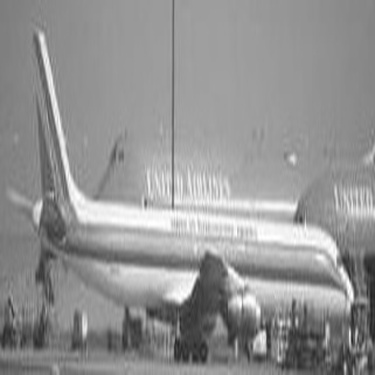airplane: (28, 27, 357, 362), (83, 114, 369, 231), (282, 148, 371, 267)
